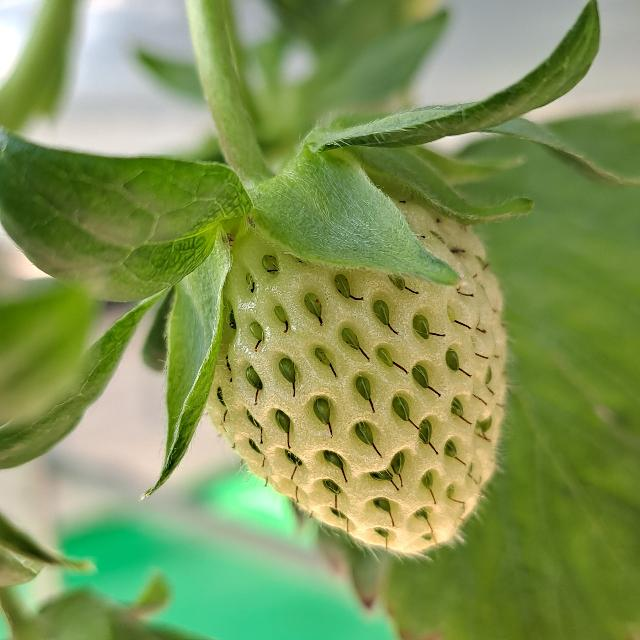Health_25: (205, 198, 507, 552)
